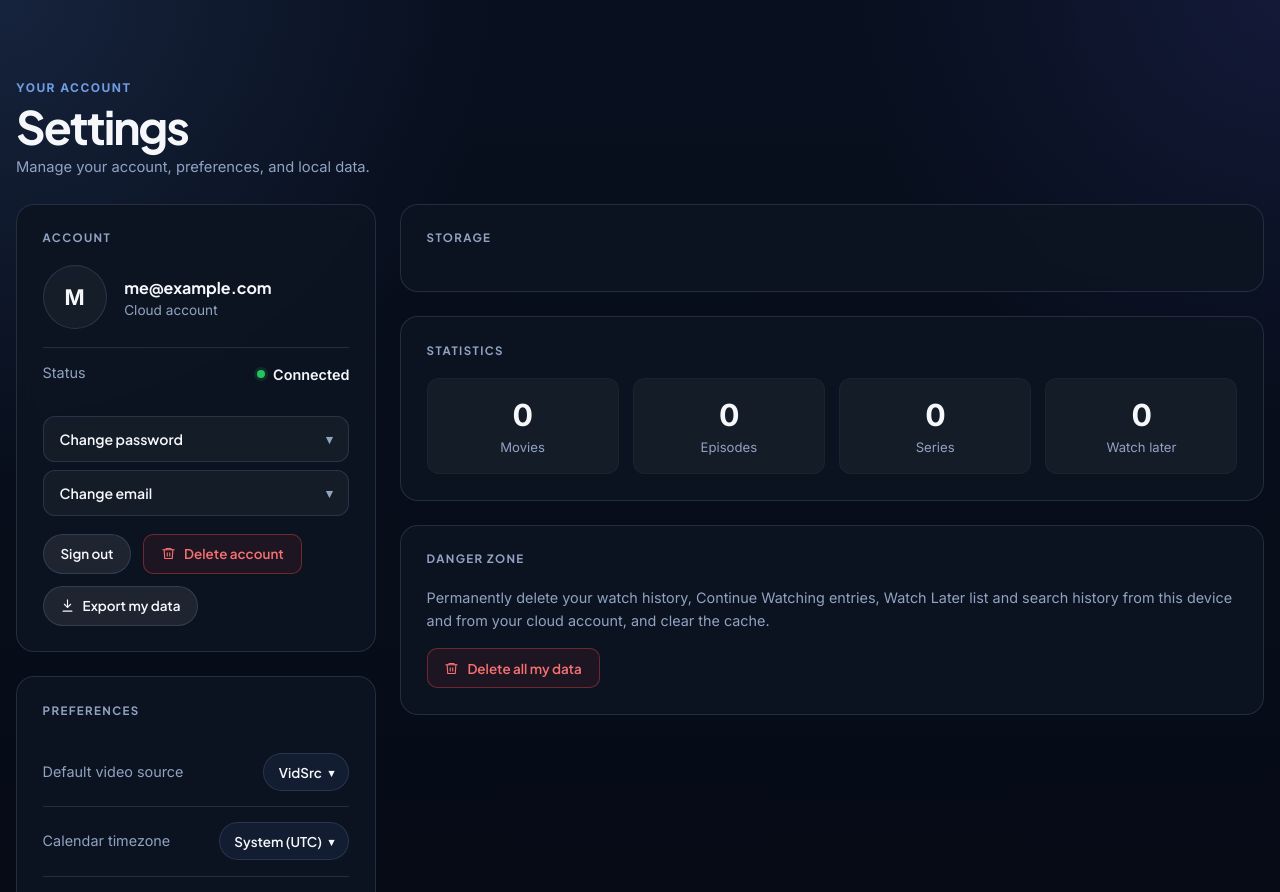
Test: Settings > delete account › opens a modal dialog that says plainly what is deleted and focuses Cancel first
Click the button "Delete account". click: click(222, 554)
box: [143, 534, 302, 574]
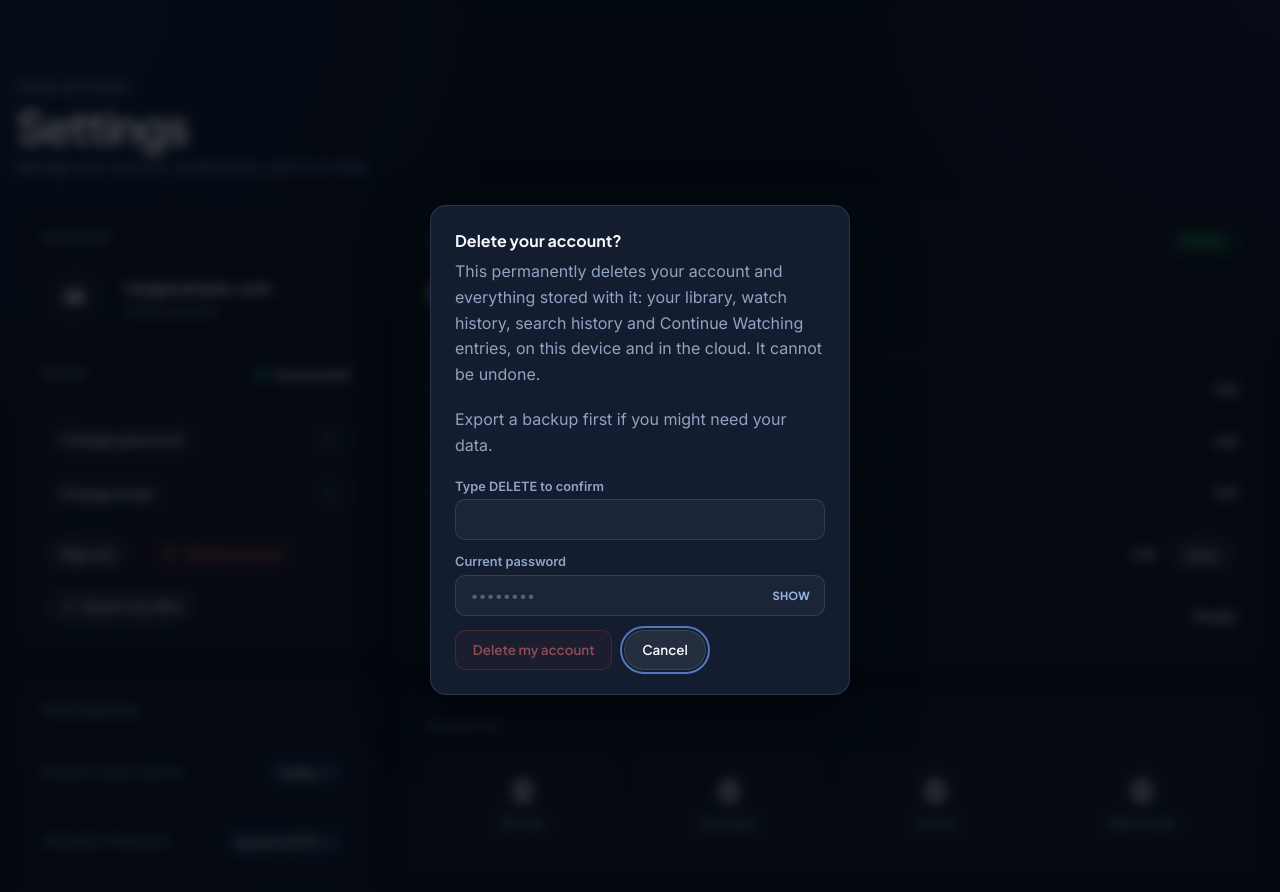
expect the dialog "Delete your account?" is shown: met, box [455, 230, 622, 251]
expect the dialog "Delete your account?" shows "library": met, box [455, 261, 822, 384]
expect the dialog "Delete your account?" shows "watch history": met, box [455, 261, 822, 384]
